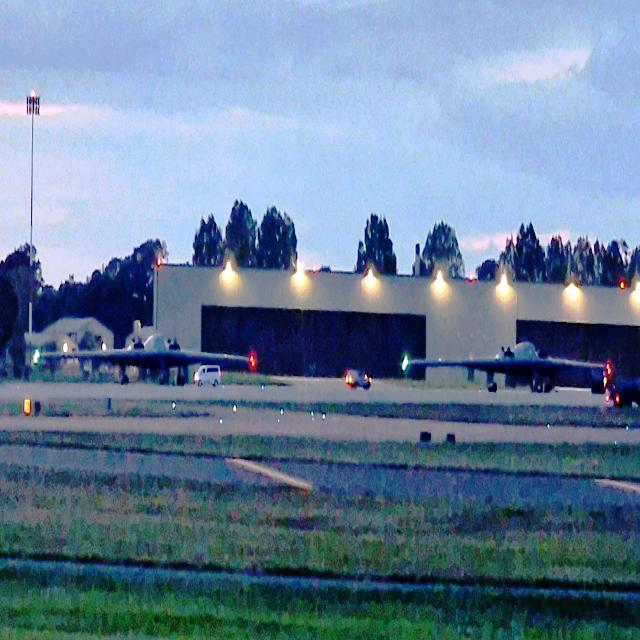Aircraft: (400, 322, 611, 407), (38, 317, 256, 385)
